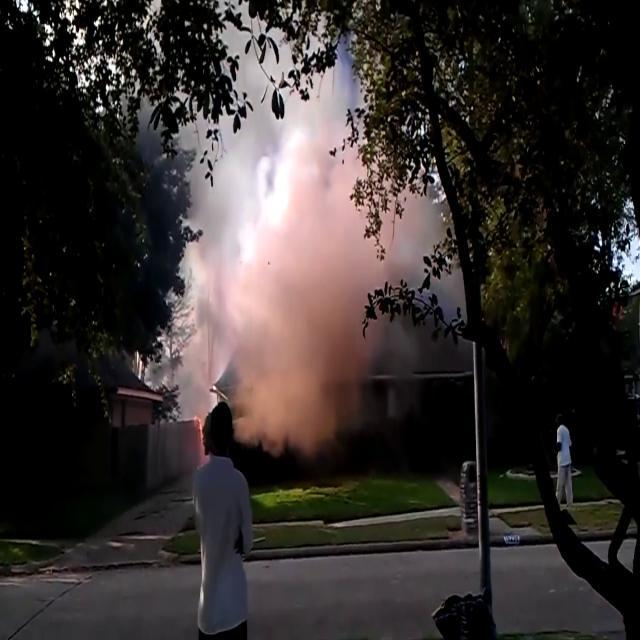Smoke: (176, 22, 430, 468)
